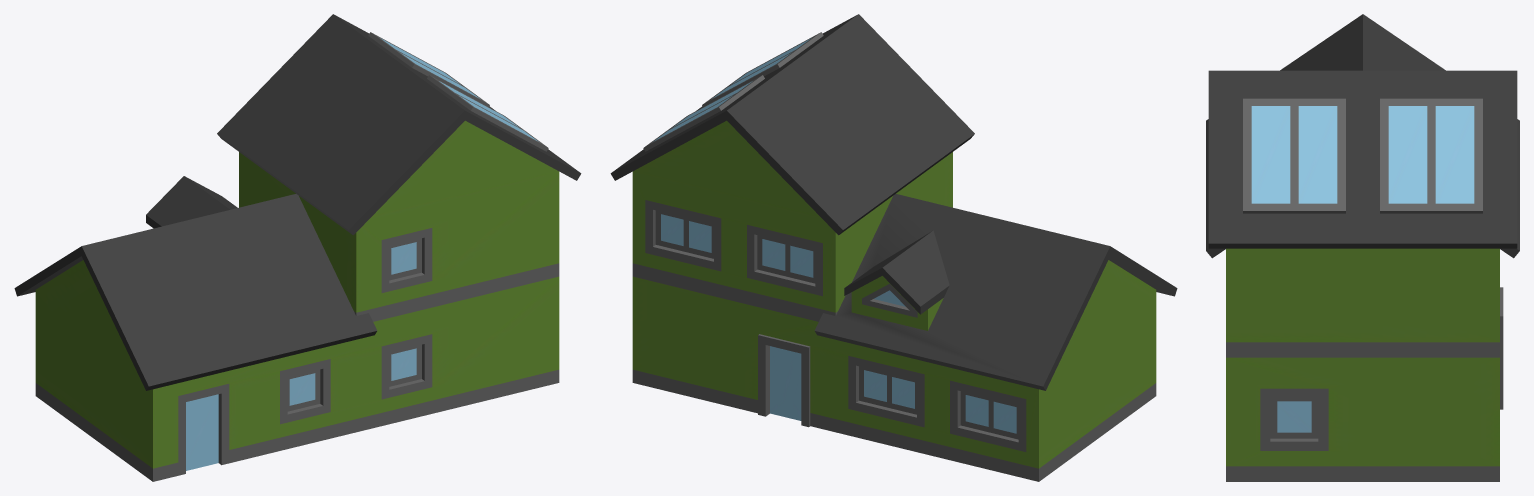
The model's file is house_type03.fbx.
3 views of the same model, side by side, from view 1: azimuth 30°, elevation 25°; view 2: azimuth 150°, elevation 25°; view 3: azimuth 270°, elevation 25° (orthographic). The views are drawn at different scales.
Parts seen in each view (by area): view 1: house_type03; view 2: house_type03; view 3: house_type03.
Boxes of the visible parts, left/top/right/bottom form: house_type03: left=14, top=14, right=581, bottom=481; house_type03: left=610, top=14, right=1177, bottom=481; house_type03: left=1206, top=14, right=1519, bottom=481.
Bounding box in the file's own units: 17.08 × 11.38 × 9.16.
1 material, 1 textured.
